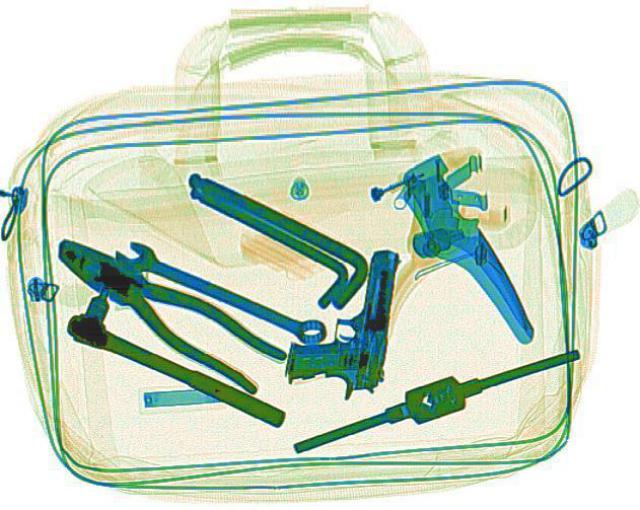Gun: (280, 242, 400, 397)
Pliers: (29, 222, 294, 394)
Wrench: (105, 233, 335, 347)
